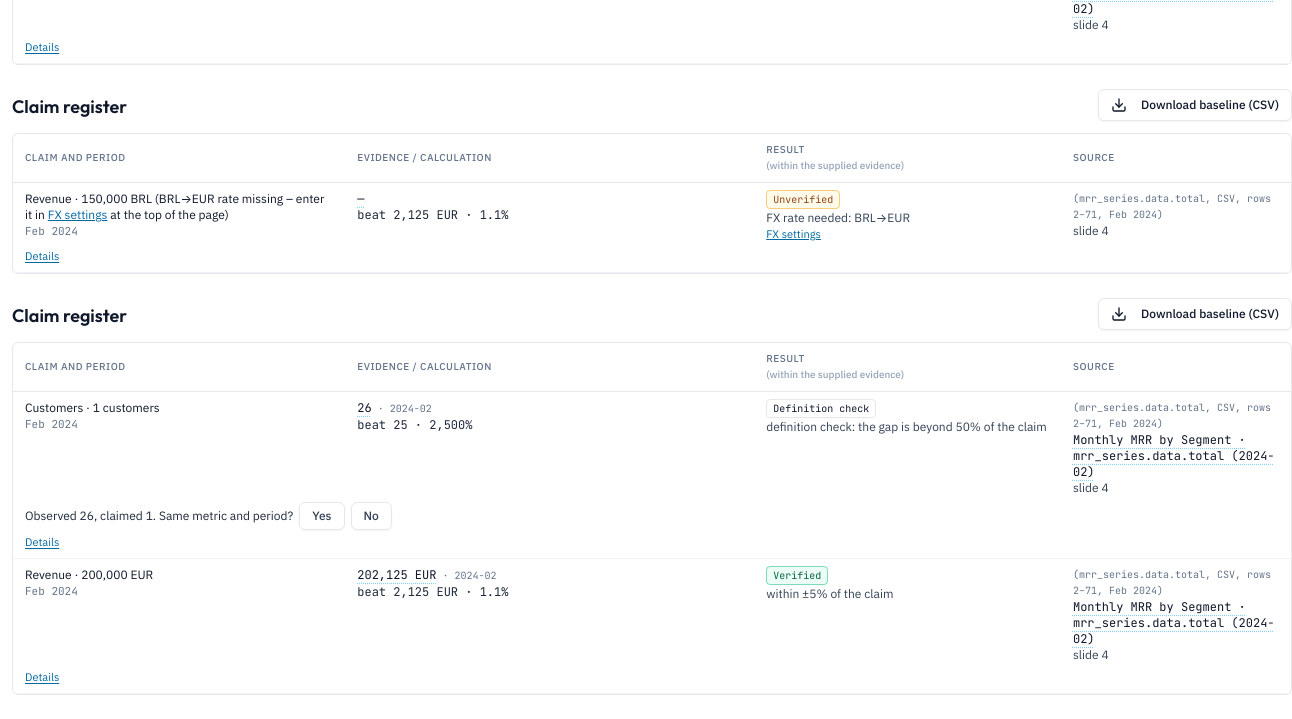
it: a row in Definition check reads so in the Evidence cell and asks its question with Yes and No on one line
(page scrolled)
Expected: the text with test id "register-evidence" reads "Definition check", [773,402,869,415]
Expected: the text with test id "definition-question" reads "Observed 26, claimed 1. Same metric and period?", [25,508,293,523]
Click the button "Yes".
click(322, 516)  # box [299,502,344,530]
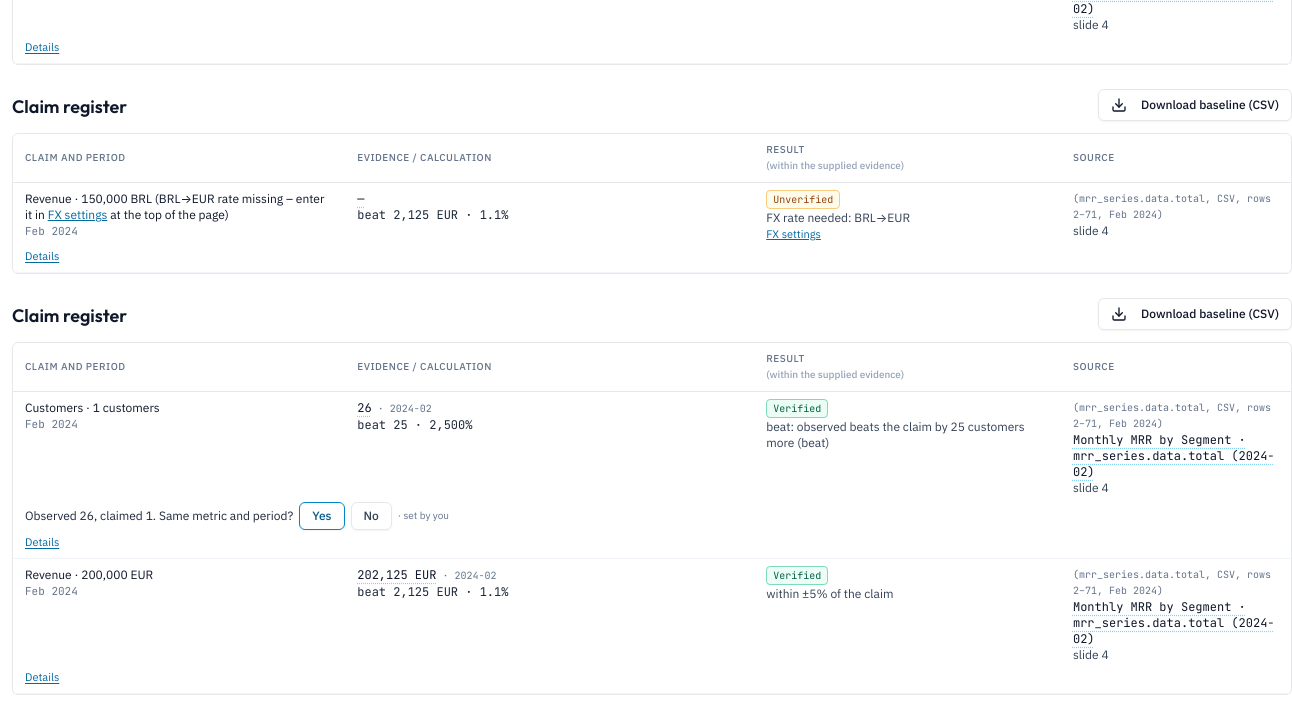
Expected: the text with test id "register-evidence" in the row of "Customers · 1 customers" reads "Verified", [773,402,821,415]
Expected: the element with test id "definition-check" shows "set by you", [398,509,449,522]
